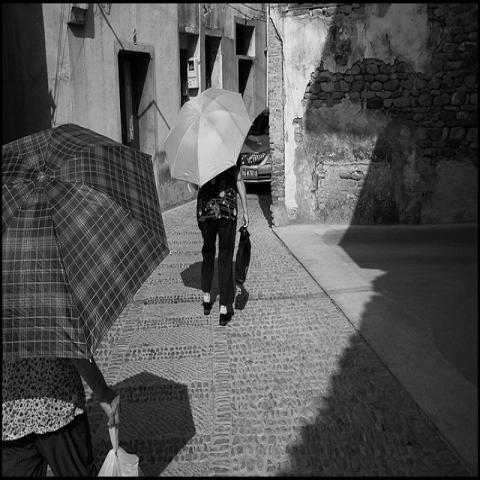car: (239, 107, 272, 195)
